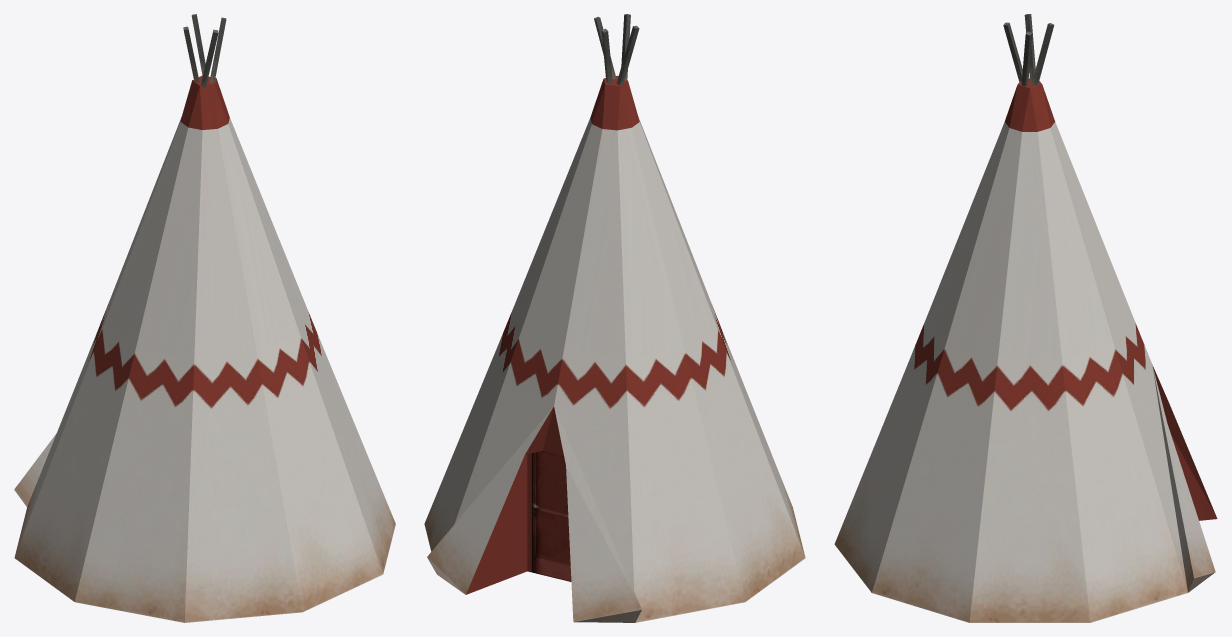
Rendered from tepee_room_.obj.
3 views of the same model, side by side, from view 1: azimuth 30°, elevation 25°; view 2: azimuth 150°, elevation 25°; view 3: azimuth 270°, elevation 25° (orthographic).
Parts seen in each view (by area): view 1: tepee_room_; view 2: tepee_room_; view 3: tepee_room_.
Boxes of the visible parts, x1=… form: tepee_room_: x1=14, y1=14, x2=395, y2=622; tepee_room_: x1=424, y1=14, x2=805, y2=622; tepee_room_: x1=834, y1=14, x2=1217, y2=622.
Bounding box in the file's own units: 5.11 × 7.9 × 5.27.
3 materials, 3 textured.
